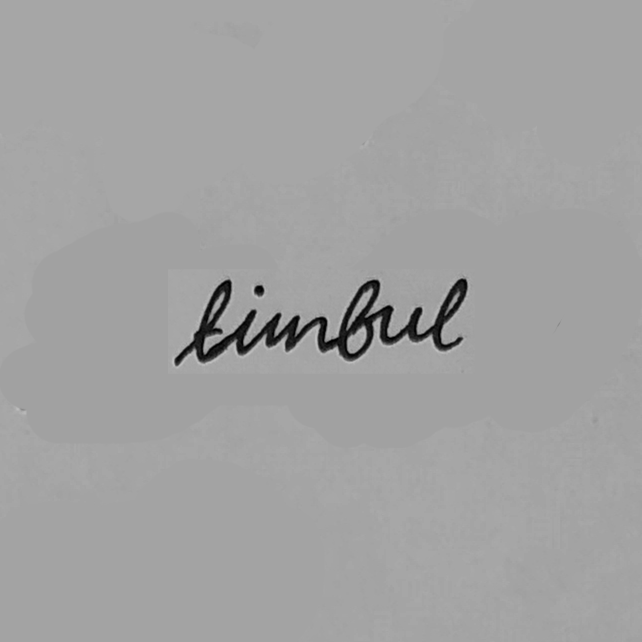b: (339, 232, 435, 403)
i: (140, 241, 202, 392)
l: (530, 231, 609, 382)
m: (195, 297, 330, 388)
t: (54, 231, 137, 410)
u: (426, 282, 520, 375)
